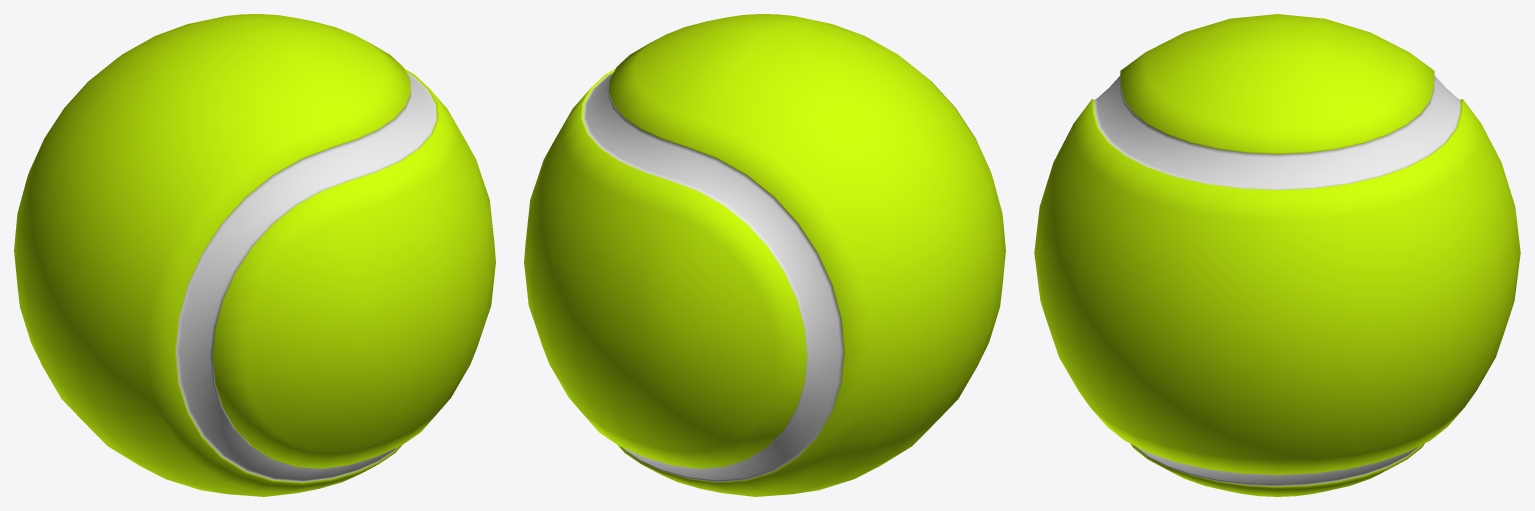
The model's file is tennis-ball.glb.
3 renders of one model, left to right at view 1: azimuth 30°, elevation 25°; view 2: azimuth 150°, elevation 25°; view 3: azimuth 270°, elevation 25°, orthographic.
Parts seen in each view (by area): view 1: low poly_Material.001_0, low poly_Material.002_0; view 2: low poly_Material.001_0, low poly_Material.002_0; view 3: low poly_Material.001_0, low poly_Material.002_0.
Boxes of the visible parts, bbox=[...] form: low poly_Material.001_0: bbox=[14, 14, 495, 496]; low poly_Material.002_0: bbox=[176, 72, 436, 482]; low poly_Material.001_0: bbox=[524, 14, 1005, 496]; low poly_Material.002_0: bbox=[583, 72, 843, 482]; low poly_Material.001_0: bbox=[1034, 14, 1520, 496]; low poly_Material.002_0: bbox=[1094, 75, 1460, 486].
Bounding box in the file's own units: 1.04 × 1.05 × 1.05.
